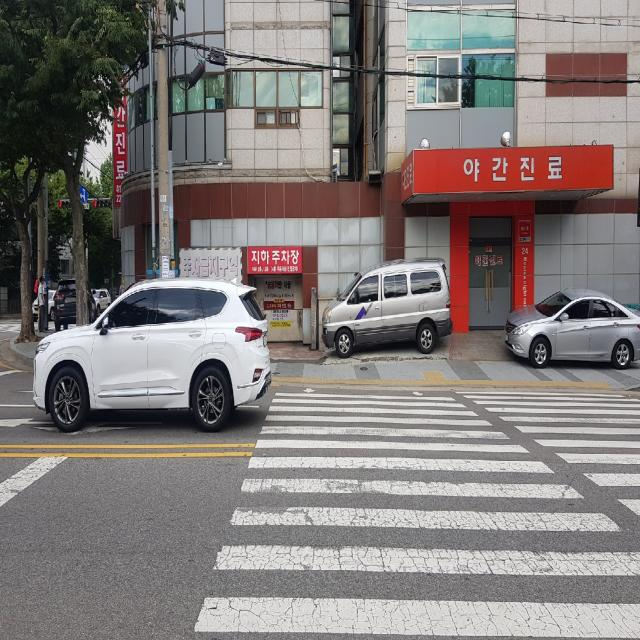횡단보도: (194, 388, 640, 640)
